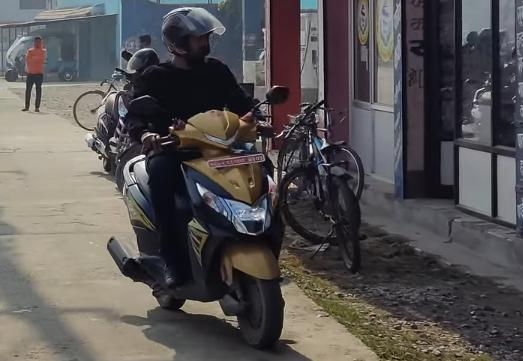scooter: (105, 80, 306, 354)
